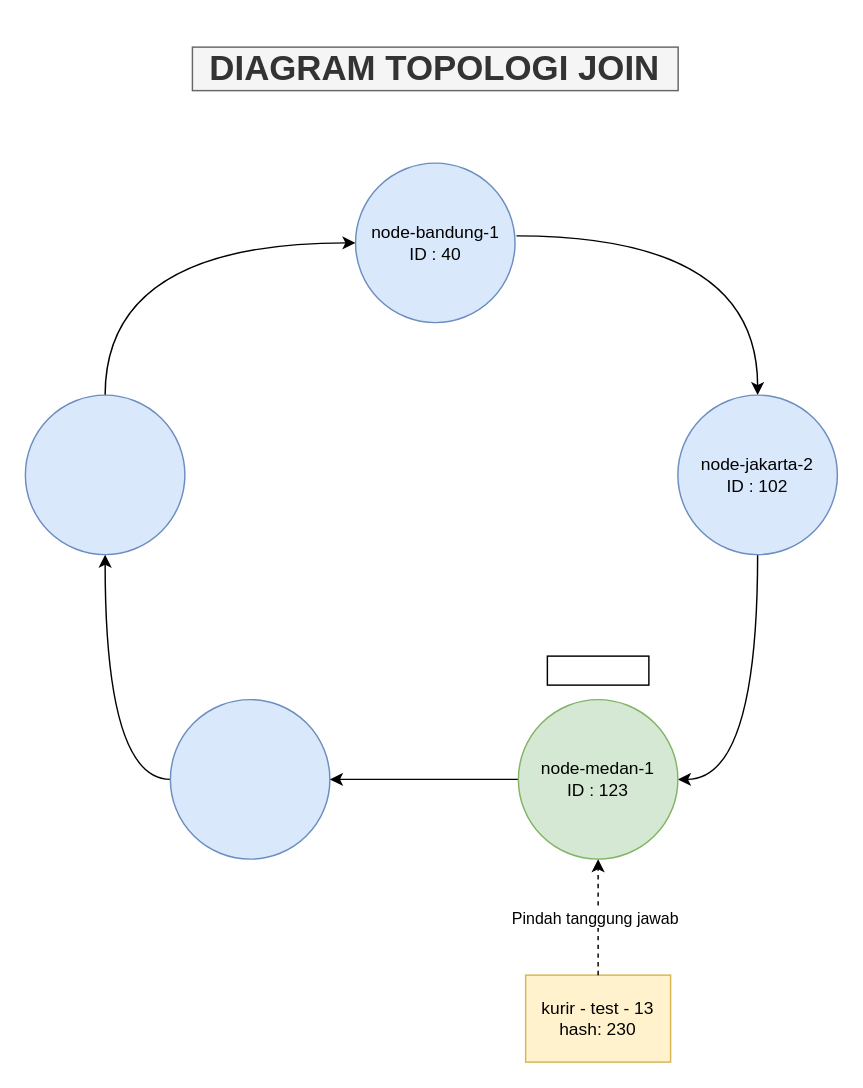
This 863x1088 diagram has some shape labels left out. Here are the shapes that lost their labels. From the top down, the centre of each, then its label:
[104,474]: node-jakarta-1 ID : 177
[597,670]: ChordJoin
[249,778]: node-surabaya-1 ID : 136
